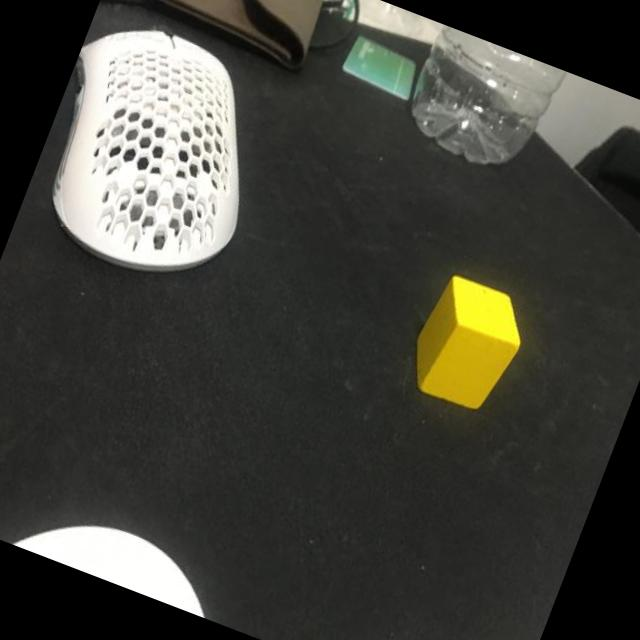yellow: (401, 271, 536, 418)
